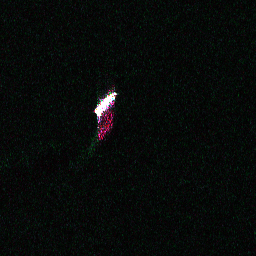ship: (91, 89, 120, 119)
